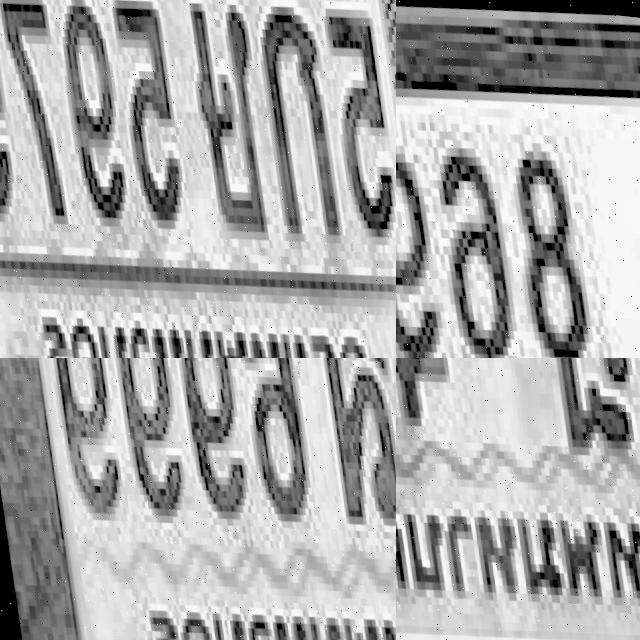license-plate: (0, 0, 396, 358), (0, 358, 396, 640), (396, 0, 640, 358), (396, 358, 640, 640)
